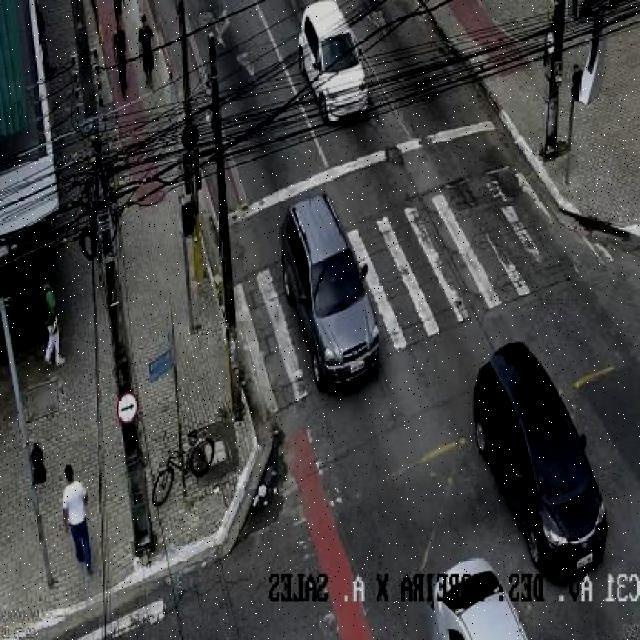Car: (469, 339, 614, 582), (278, 190, 387, 392), (296, 0, 374, 125), (431, 558, 530, 640)
Cycle: (150, 429, 216, 508)
